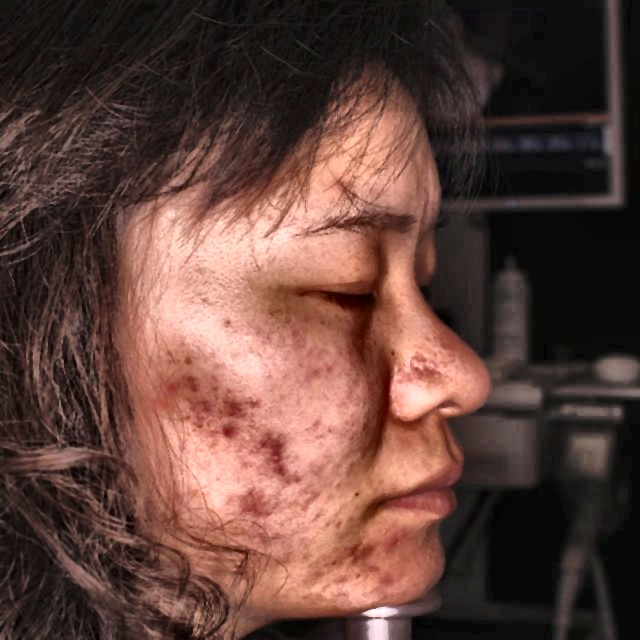pustule: (364, 564, 410, 593), (237, 489, 279, 518), (208, 422, 250, 448), (147, 385, 172, 424), (265, 446, 294, 476), (380, 524, 409, 552), (344, 542, 377, 563), (151, 371, 199, 384), (215, 396, 257, 409)
